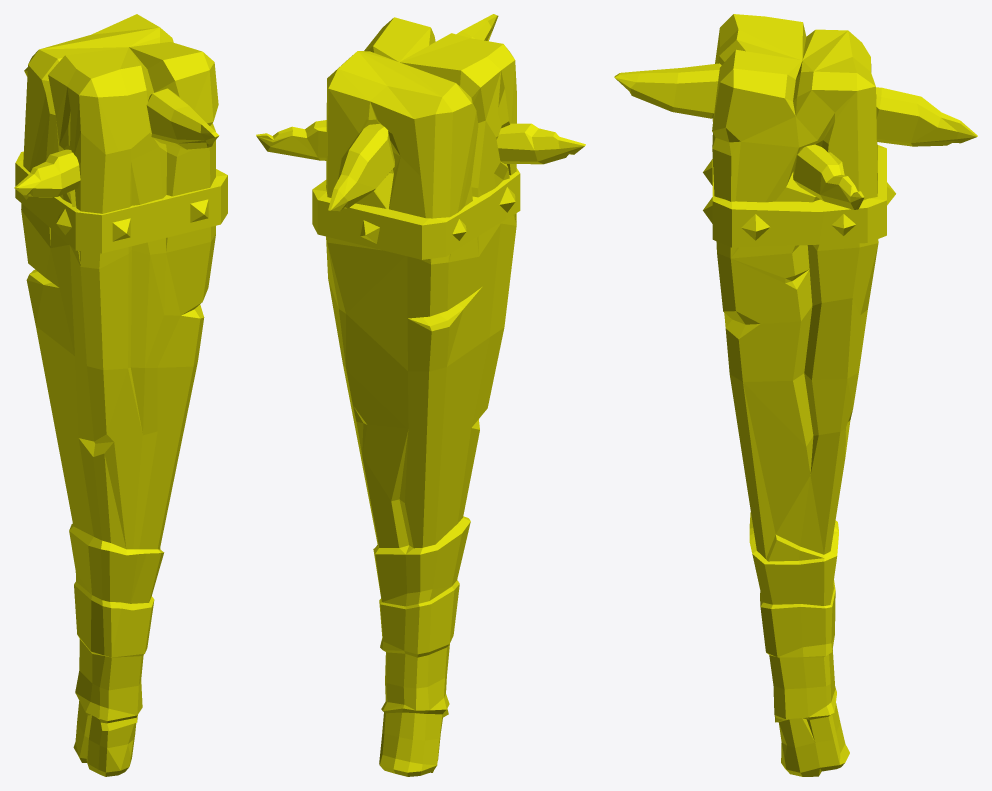
File: SM_Wep_Troll_01.glb
3 renders of one model, left to right at view 1: azimuth 30°, elevation 25°; view 2: azimuth 150°, elevation 25°; view 3: azimuth 270°, elevation 25°, orthographic. The views are drawn at different scales.
Visible parts, largest first — view 1: SM_Wep_Troll_01; view 2: SM_Wep_Troll_01; view 3: SM_Wep_Troll_01.
Part boxes in pixels (x1=…): SM_Wep_Troll_01: x1=14, y1=14, x2=227, y2=776; SM_Wep_Troll_01: x1=256, y1=14, x2=585, y2=776; SM_Wep_Troll_01: x1=614, y1=14, x2=977, y2=776.
Bounding box in the file's own units: 0.572 × 1.48 × 0.6686.
